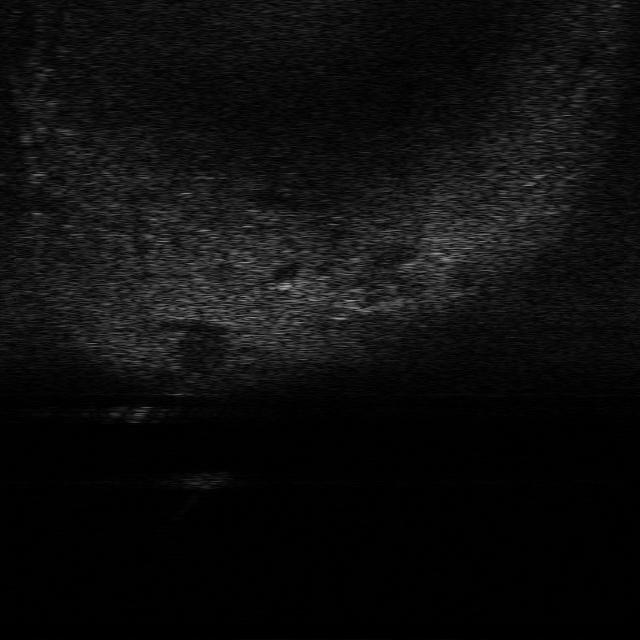cube: (181, 469, 229, 488)
